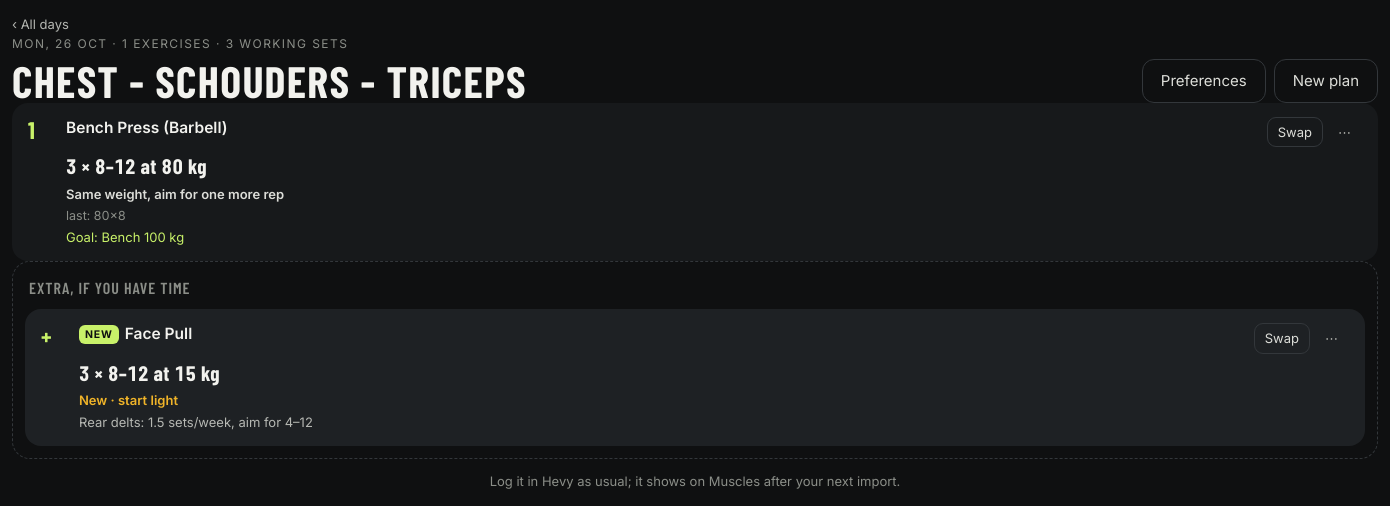
Test: Plan page › offers 'don't suggest again' only on suggested exercises
Check: the text "Bench Press (Barbell)" is shown, box [66,118,227,137]
Click the button named "More for Bench Press (Barbell)".
click(1344, 132)  # box [1327,117,1362,147]
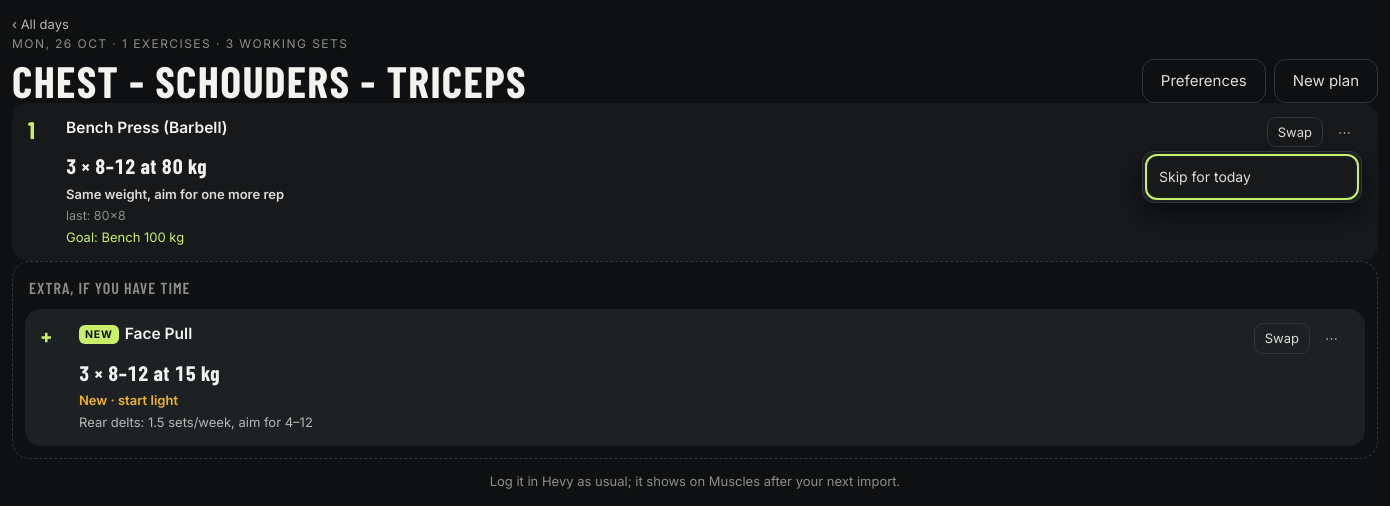
Check: the menu item "Don't suggest this again" is not shown
Check: the menu item "Skip for today" is shown, box [1149,158,1355,196]
Press Escape in the menu, box [1142,151,1362,203]
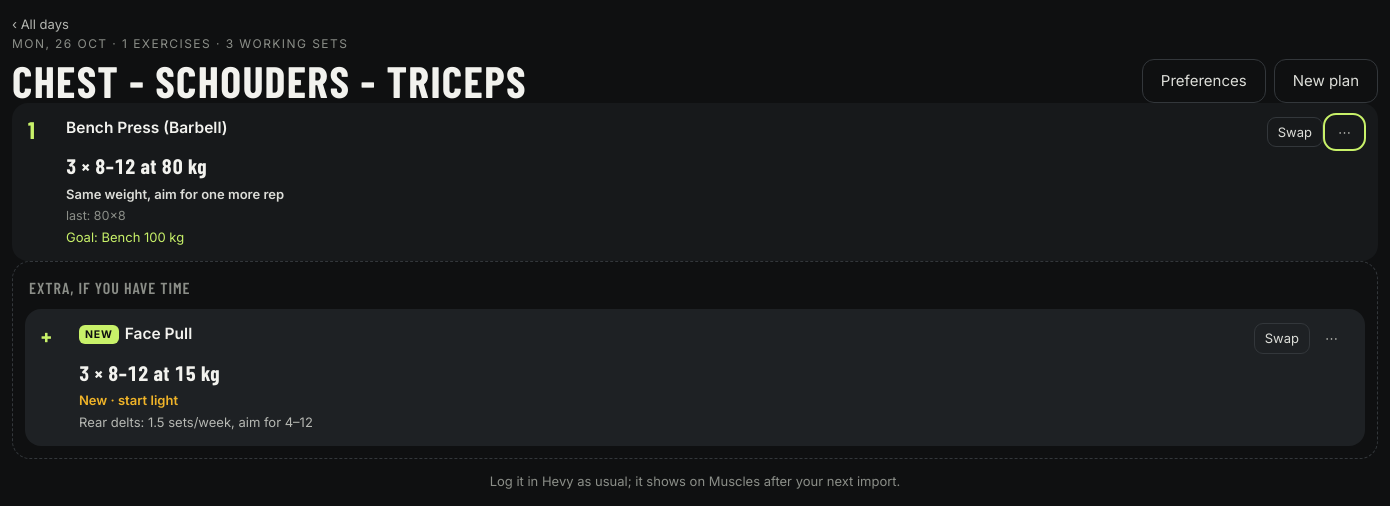
Click the button named "More for Face Pull".
click(1332, 338)  # box [1314,323,1349,354]
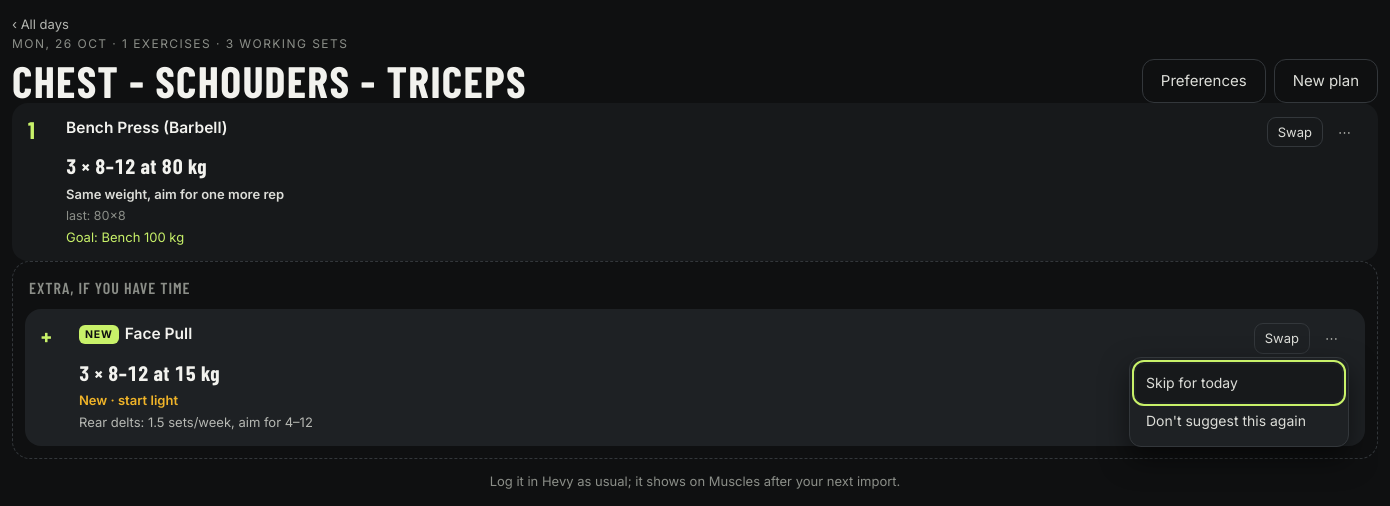
Check: the menu item "Don't suggest this again" is shown, box [1136,402,1342,440]
